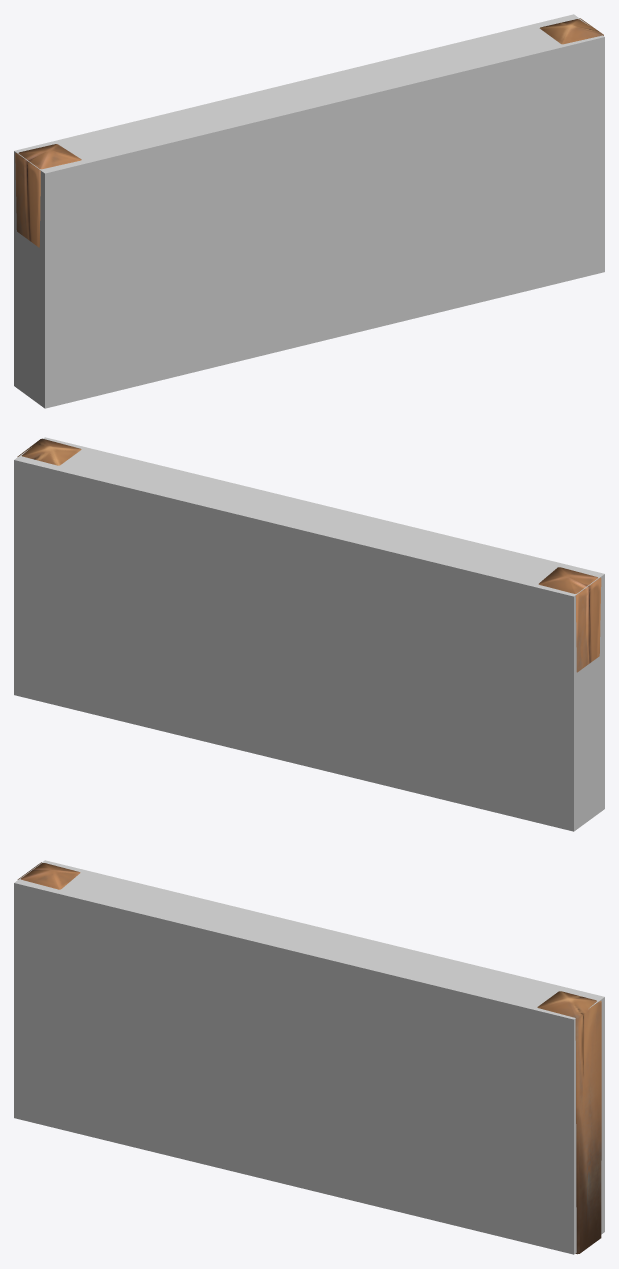
Rendered from FenceSingle.gltf.
3 views of the same model, one above another, from view 1: azimuth 30°, elevation 25°; view 2: azimuth 150°, elevation 25°; view 3: azimuth 330°, elevation 25° (orthographic).
Parts seen in each view (by area): view 1: fence_single-convcolonly.001, Cube.007; view 2: fence_single-convcolonly.001, Cube.007; view 3: fence_single-convcolonly.001, Cube.007.
Part boxes in pixels (x1=…): fence_single-convcolonly.001: x1=14, y1=14, x2=604, y2=408; Cube.007: x1=15, y1=18, x2=603, y2=247; fence_single-convcolonly.001: x1=14, y1=437, x2=604, y2=831; Cube.007: x1=17, y1=438, x2=601, y2=672; fence_single-convcolonly.001: x1=14, y1=860, x2=604, y2=1254; Cube.007: x1=17, y1=862, x2=601, y2=1254.
Bounding box in the file's own units: 2.61 × 1.07 × 0.2491.
Materials: 1 (1 with a texture image).
